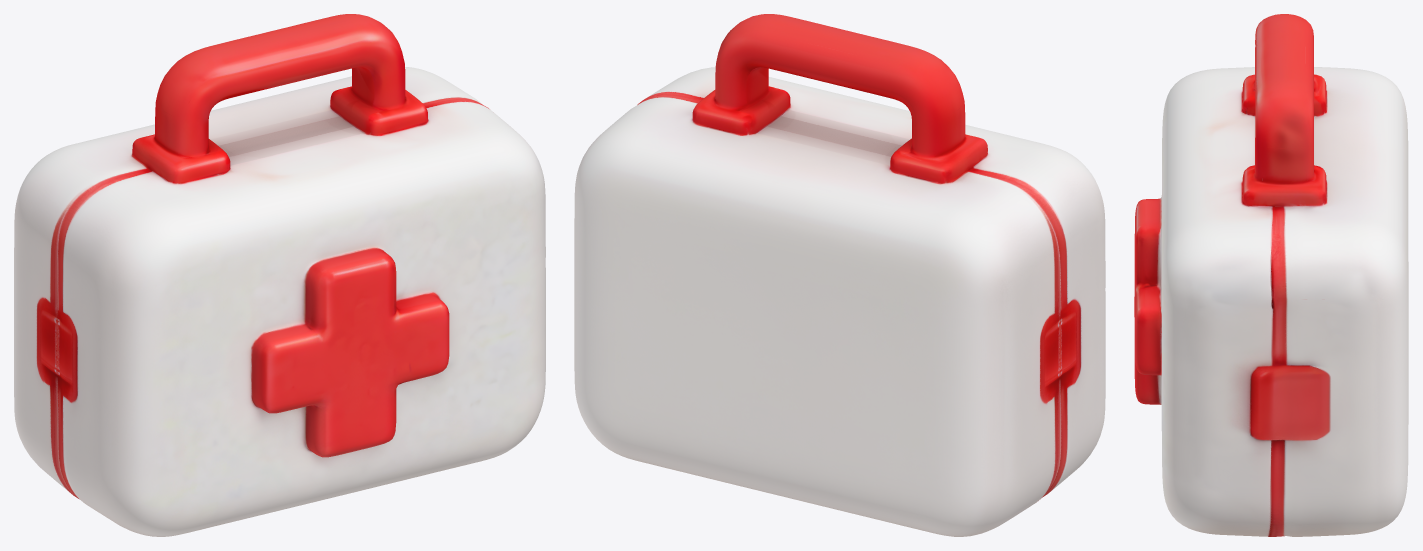
The model's file is base_basic_shaded.glb.
The picture shows the model from 3 angles, left to right: view 1: azimuth 30°, elevation 25°; view 2: azimuth 150°, elevation 25°; view 3: azimuth 270°, elevation 25°; orthographic projection. The views are drawn at different scales.
Parts seen in each view (by area): view 1: model; view 2: model; view 3: model.
Boxes of the visible parts, x1,y1,x2,y2 form: model: (14,14,545,536); model: (574,14,1105,536); model: (1134,14,1408,536).
Bounding box in the file's own units: 1.9 × 1.77 × 1.08.
1 material, 1 textured.
